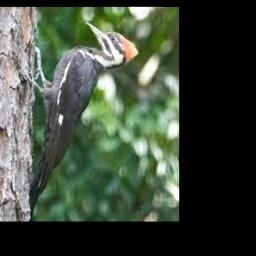Woodpecker: (28, 22, 140, 219)
